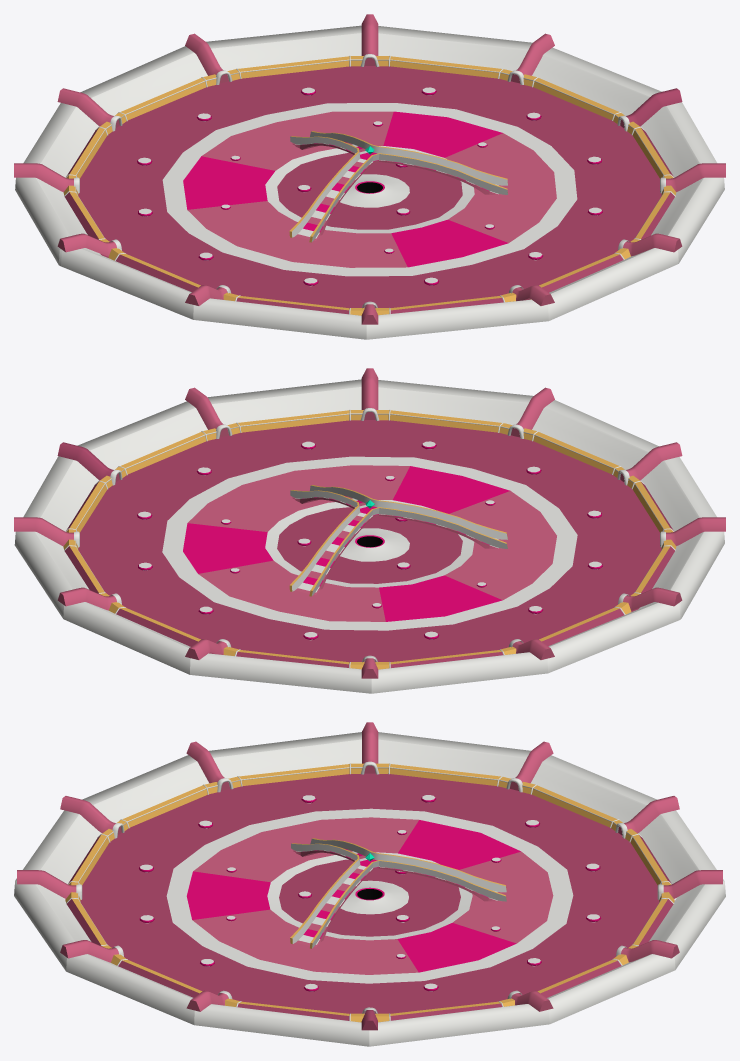
Rendered from Mayhen_arena_2.fbx.
The picture shows the model from 3 angles, top to bottom: view 1: azimuth 30°, elevation 25°; view 2: azimuth 150°, elevation 25°; view 3: azimuth 270°, elevation 25°; orthographic projection.
Parts seen in each view (by area): view 1: ground_1, tubeHolderBase_1, arenaWalls_1, bridge_1, startingTube_4, startingTube_8, startingTube_9, startingTube_3, startingTube_5, startingTube_7, startingTube_6, startingTube_10 (+4 smaller); view 2: ground_1, tubeHolderBase_1, arenaWalls_1, bridge_1, startingTube_12, startingTube_4, startingTube_5, startingTube_11, startingTube_1, startingTube_3, startingTube_2, startingTube_10 (+4 smaller); view 3: ground_1, tubeHolderBase_1, arenaWalls_1, bridge_1, startingTube_8, startingTube_12, startingTube_1, startingTube_7, startingTube_11, startingTube_9, startingTube_10, startingTube_2 (+4 smaller).
Boxes of the visible parts, left/top/right/bottom form: ground_1: left=78, top=66, right=661, bottom=308; tubeHolderBase_1: left=15, top=25, right=724, bottom=339; arenaWalls_1: left=64, top=56, right=675, bottom=314; bridge_1: left=289, top=131, right=507, bottom=242; startingTube_4: left=613, top=88, right=682, bottom=134; startingTube_8: left=57, top=88, right=126, bottom=134; startingTube_9: left=14, top=163, right=79, bottom=195; startingTube_3: left=660, top=163, right=725, bottom=195; startingTube_5: left=499, top=33, right=554, bottom=86; startingTube_7: left=185, top=33, right=240, bottom=86; startingTube_6: left=350, top=14, right=389, bottom=66; startingTube_10: left=57, top=233, right=124, bottom=260; ground_1: left=78, top=420, right=661, bottom=662; tubeHolderBase_1: left=14, top=379, right=724, bottom=693; arenaWalls_1: left=64, top=410, right=675, bottom=668; bridge_1: left=289, top=485, right=507, bottom=596; startingTube_12: left=613, top=442, right=682, bottom=488; startingTube_4: left=57, top=442, right=126, bottom=488; startingTube_5: left=14, top=517, right=79, bottom=549; startingTube_11: left=660, top=517, right=725, bottom=549; startingTube_1: left=499, top=387, right=554, bottom=440; startingTube_3: left=185, top=387, right=240, bottom=440; startingTube_2: left=350, top=368, right=389, bottom=420; startingTube_10: left=616, top=587, right=682, bottom=614; ground_1: left=65, top=773, right=659, bottom=1013; tubeHolderBase_1: left=14, top=732, right=725, bottom=1046; arenaWalls_1: left=66, top=763, right=674, bottom=1020; bridge_1: left=290, top=838, right=506, bottom=948; startingTube_8: left=611, top=796, right=679, bottom=841; startingTube_12: left=60, top=796, right=128, bottom=841; startingTube_1: left=17, top=870, right=82, bottom=902; startingTube_7: left=657, top=870, right=722, bottom=902; startingTube_11: left=186, top=741, right=241, bottom=794; startingTube_9: left=498, top=741, right=553, bottom=793; startingTube_10: left=350, top=722, right=389, bottom=774; startingTube_2: left=60, top=940, right=125, bottom=965.
Bounding box in the file's own units: 143 × 27.37 × 143.
